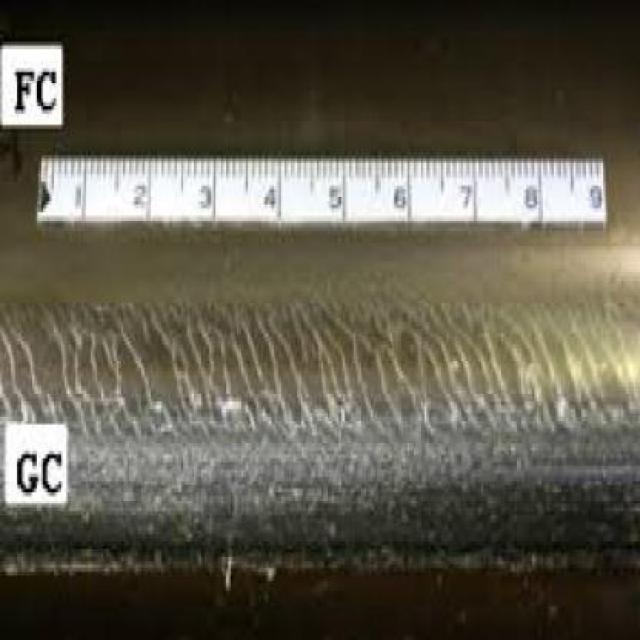defective: (3, 87, 638, 640)
